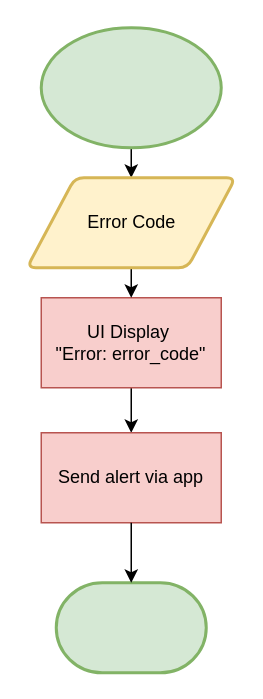
Image size: 263x699. Some labels were removed from this diagram. Each missing label, with the box of its shape:
END: (54, 580, 207, 674)
Start: (39, 26, 222, 148)
